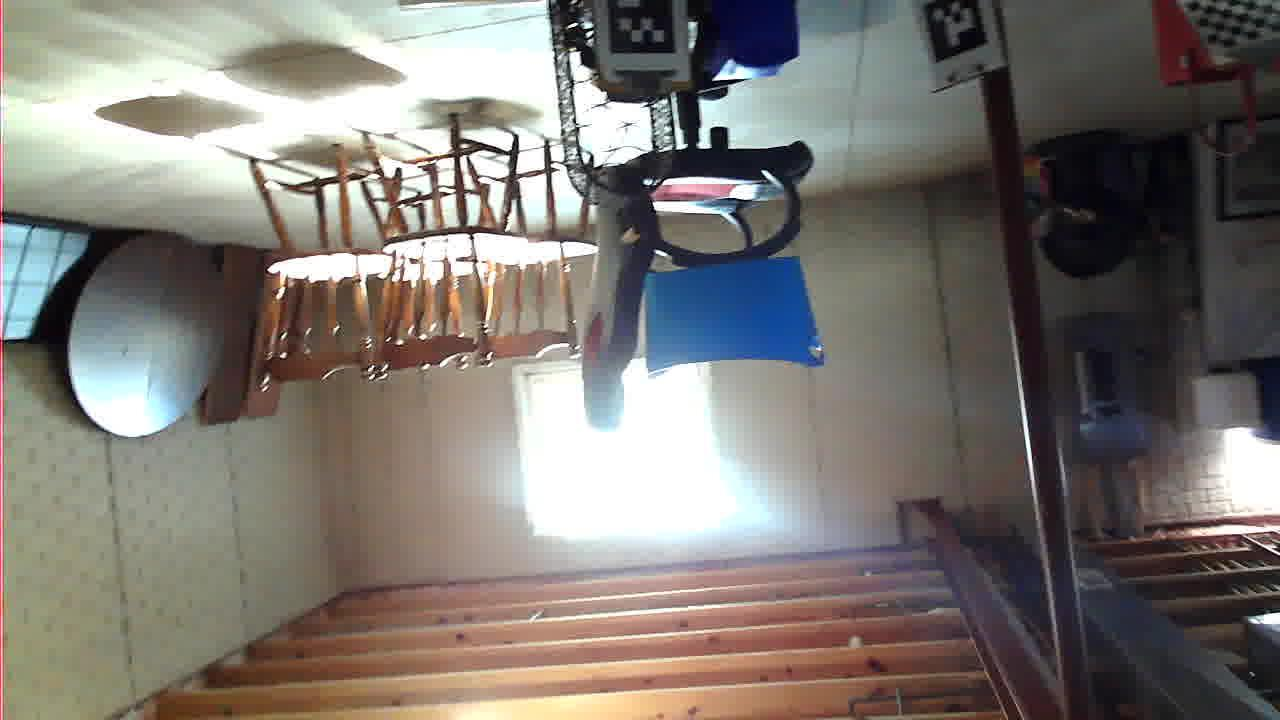coral: (734, 710, 882, 720)
